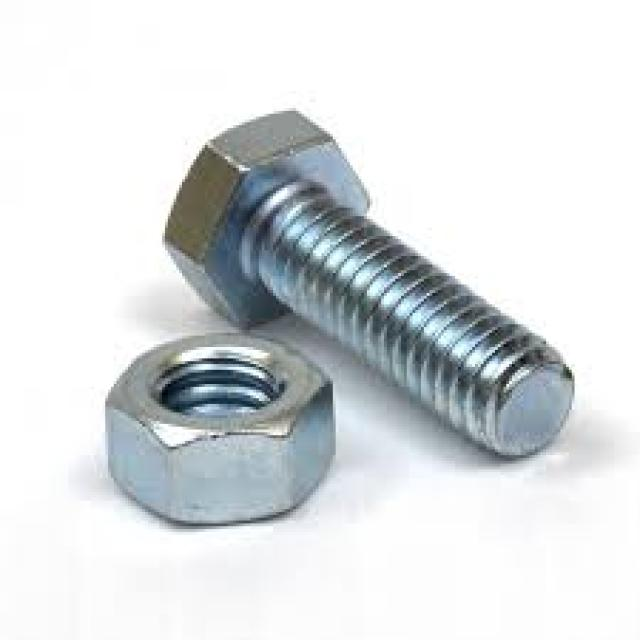metal: (159, 105, 572, 458), (100, 330, 333, 523)
